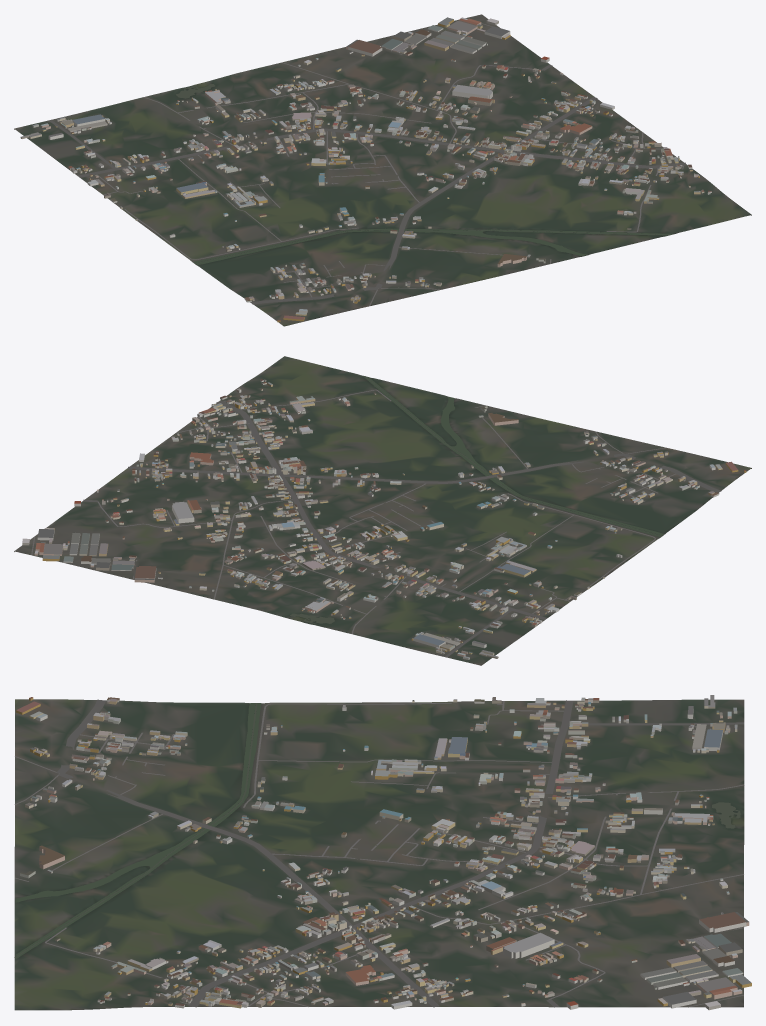
3 renders of one model, top to bottom at view 1: azimuth 30°, elevation 25°; view 2: azimuth 150°, elevation 25°; view 3: azimuth 270°, elevation 25°, orthographic. The views are drawn at different scales.
Visible parts, largest first — view 1: ground, buildings, roads, water; view 2: ground, buildings, roads, water; view 3: ground, buildings, roads, water.
Boxes of the visible parts, bbox=[...] form: ground: bbox=[14, 14, 751, 326]; buildings: bbox=[20, 17, 711, 322]; roads: bbox=[48, 23, 686, 306]; water: bbox=[176, 84, 672, 264]; ground: bbox=[14, 356, 751, 665]; buildings: bbox=[22, 379, 746, 659]; roads: bbox=[31, 389, 721, 657]; water: bbox=[290, 375, 663, 623]; ground: bbox=[14, 699, 744, 1010]; buildings: bbox=[16, 695, 751, 1010]; roads: bbox=[14, 699, 744, 1007]; water: bbox=[14, 703, 740, 959].
Size of the model in its own units: 1425 by 23.49 by 1417.
